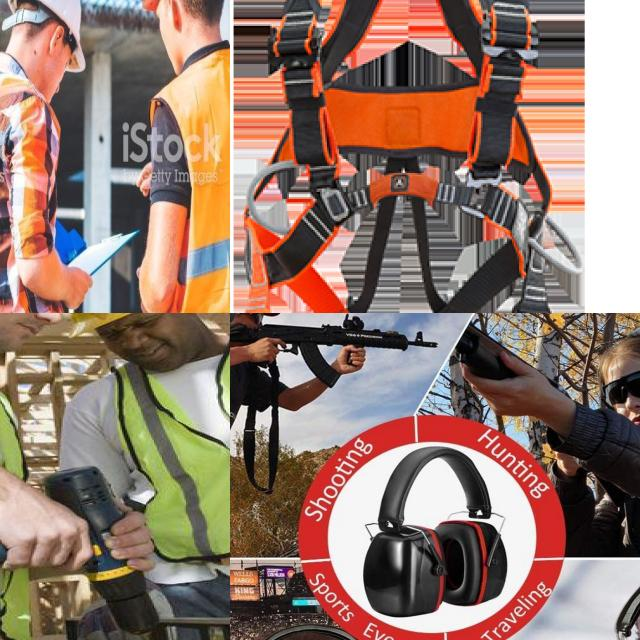Ear-protection: (588, 329, 640, 441), (230, 313, 278, 344)
Harness: (233, 0, 585, 313)
No_Ear-Protection: (46, 15, 66, 60), (162, 0, 182, 31)
No_Glasses: (97, 313, 175, 340)
face_nomask: (104, 313, 230, 372), (35, 24, 78, 110), (155, 0, 203, 71), (0, 313, 61, 351)
glasses: (598, 364, 640, 403)
hand_noglove: (0, 496, 91, 569), (65, 257, 97, 313), (136, 154, 155, 202)
head_helmet: (15, 0, 91, 69)
person: (0, 0, 83, 313), (148, 0, 230, 313), (230, 313, 304, 552)
vest: (167, 64, 230, 313)
